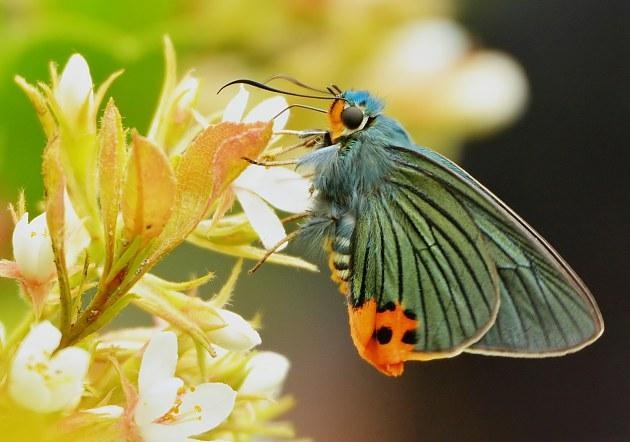Hesperiidae: (216, 66, 604, 380)
